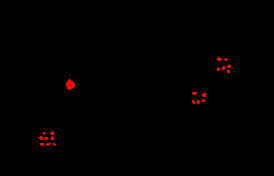Target: (66, 79, 75, 90), (217, 57, 222, 61), (227, 64, 231, 68), (202, 93, 206, 97), (50, 131, 54, 135), (39, 136, 43, 140), (192, 92, 197, 95), (46, 143, 51, 146), (224, 58, 228, 61), (222, 66, 225, 70), (217, 67, 220, 71), (192, 100, 195, 104), (197, 100, 200, 104), (51, 136, 54, 140), (44, 137, 48, 140), (40, 143, 44, 146), (227, 70, 230, 73), (202, 99, 205, 102), (43, 132, 46, 135), (53, 143, 56, 146)
